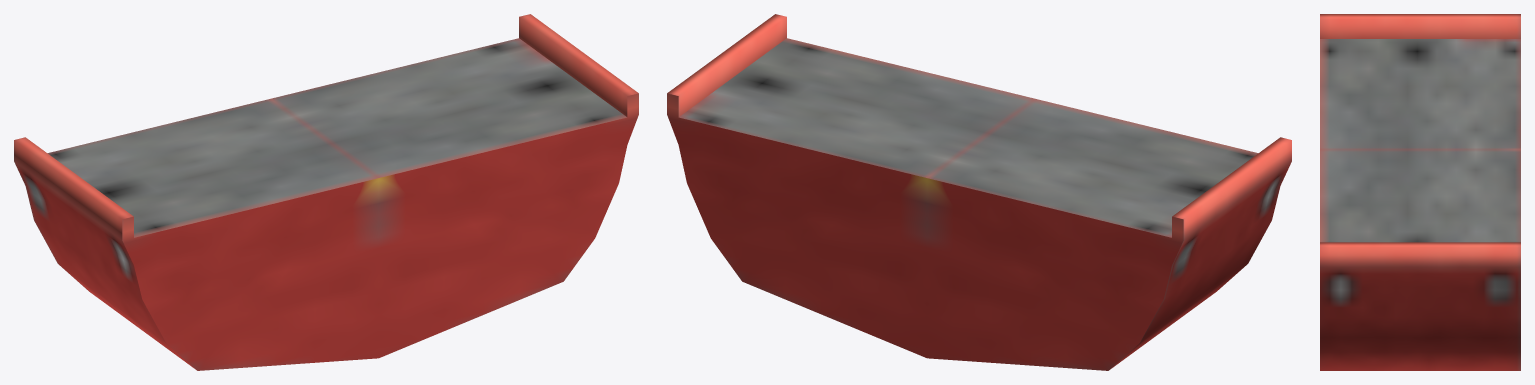
The model's file is BaseBig1.FBX.
3 views of the same model, side by side, from view 1: azimuth 30°, elevation 25°; view 2: azimuth 150°, elevation 25°; view 3: azimuth 270°, elevation 25° (orthographic). The views are drawn at different scales.
Parts seen in each view (by area): view 1: BaseBig1; view 2: BaseBig1; view 3: BaseBig1.
Boxes of the visible parts, left/top/right/bottom form: BaseBig1: left=14, top=14, right=638, bottom=370; BaseBig1: left=667, top=14, right=1291, bottom=370; BaseBig1: left=1320, top=14, right=1520, bottom=370.
Size of the model in its own units: 101 by 37.79 by 36.82.
1 material, 1 textured.
